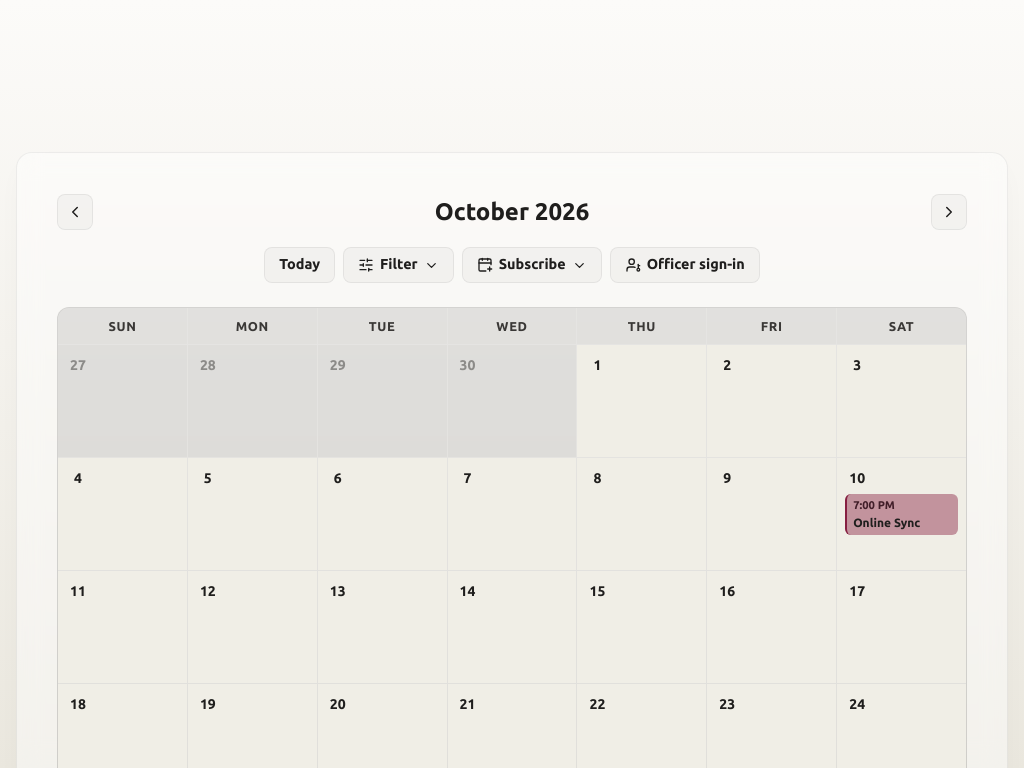
it: Calendar page › does not render a map for events without a physical location
Click the button "7:00 PM Online Sync". click: {"x": 902, "y": 515}
box: 845,494 -> 958,535
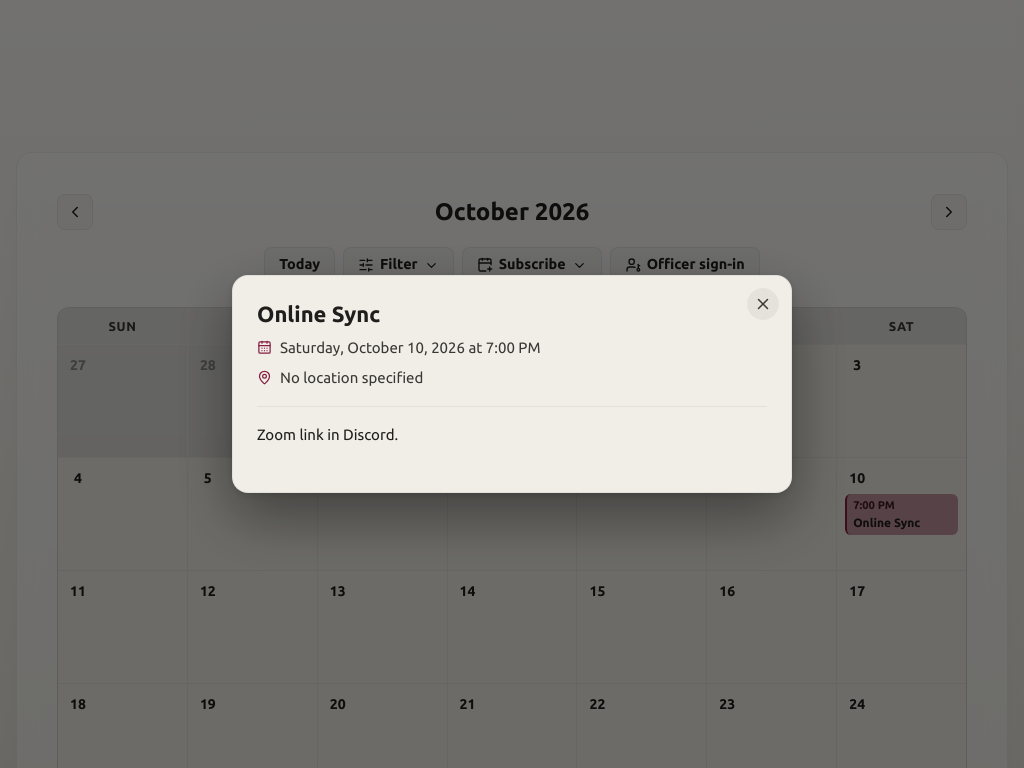
Expected: the dialog is shown
Expected: the text "No location specified" is shown, 257,369 -> 423,386
